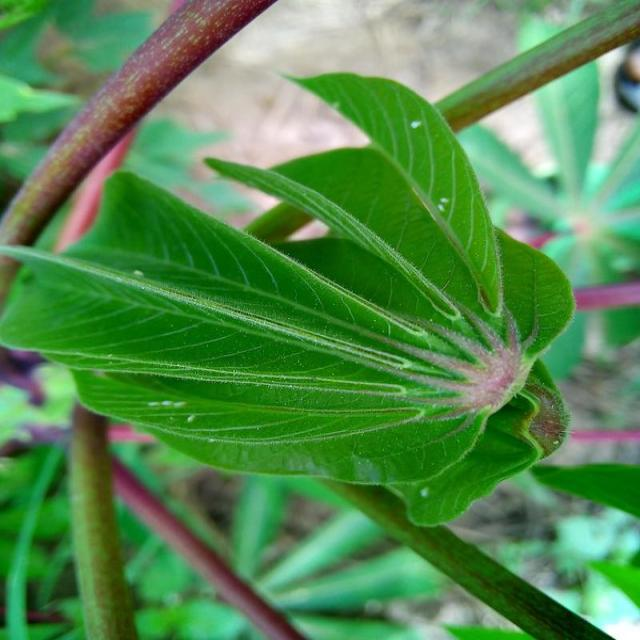cassava leaf: (1, 67, 576, 528)
